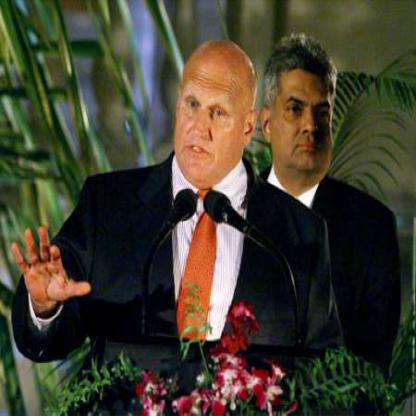face: (175, 42, 249, 187), (270, 47, 342, 178)
